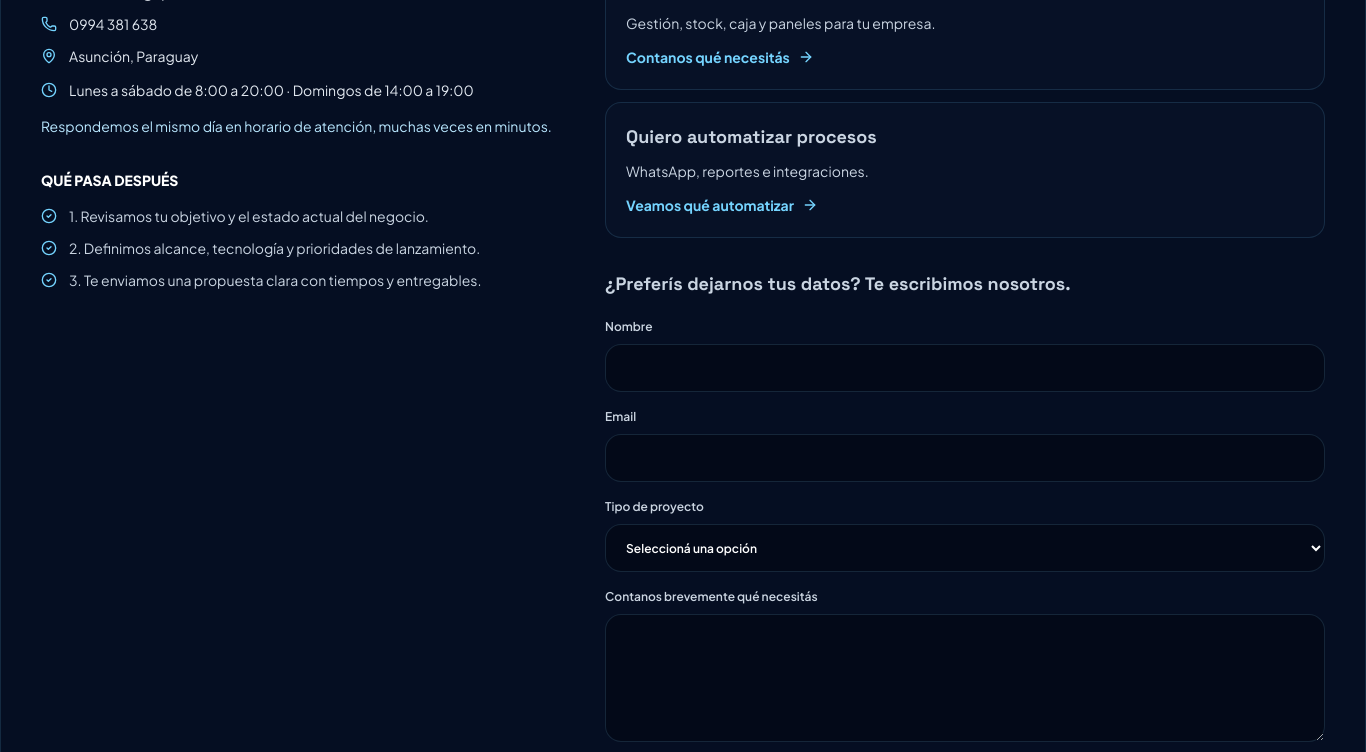
Contact › pide completar la verificación si Turnstile la está mostrando
(page scrolled)
Type "Ada" into the field labelled "Nombre" at (965, 368), box x1=605 y1=344 x2=1325 y2=392
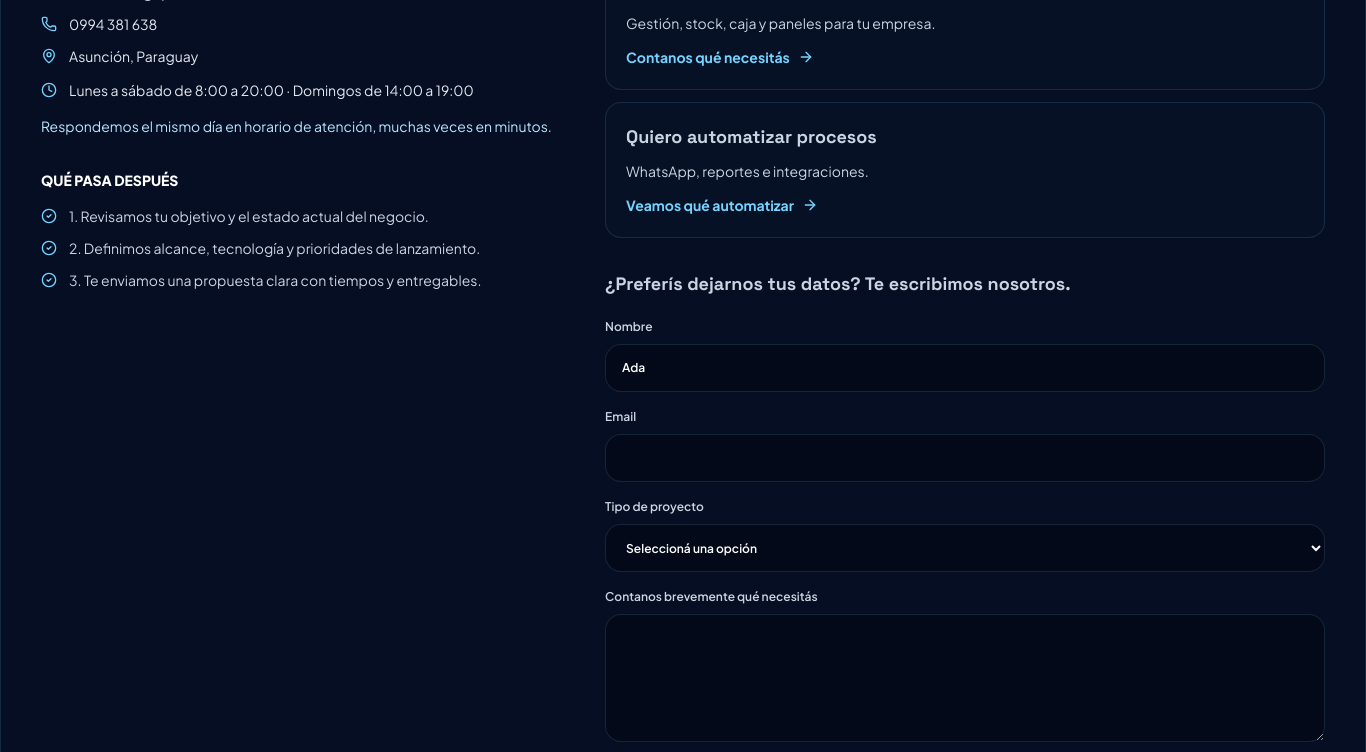
Type "ada@example.com" into the field labelled "Email" at (965, 458), box x1=605 y1=434 x2=1325 y2=482
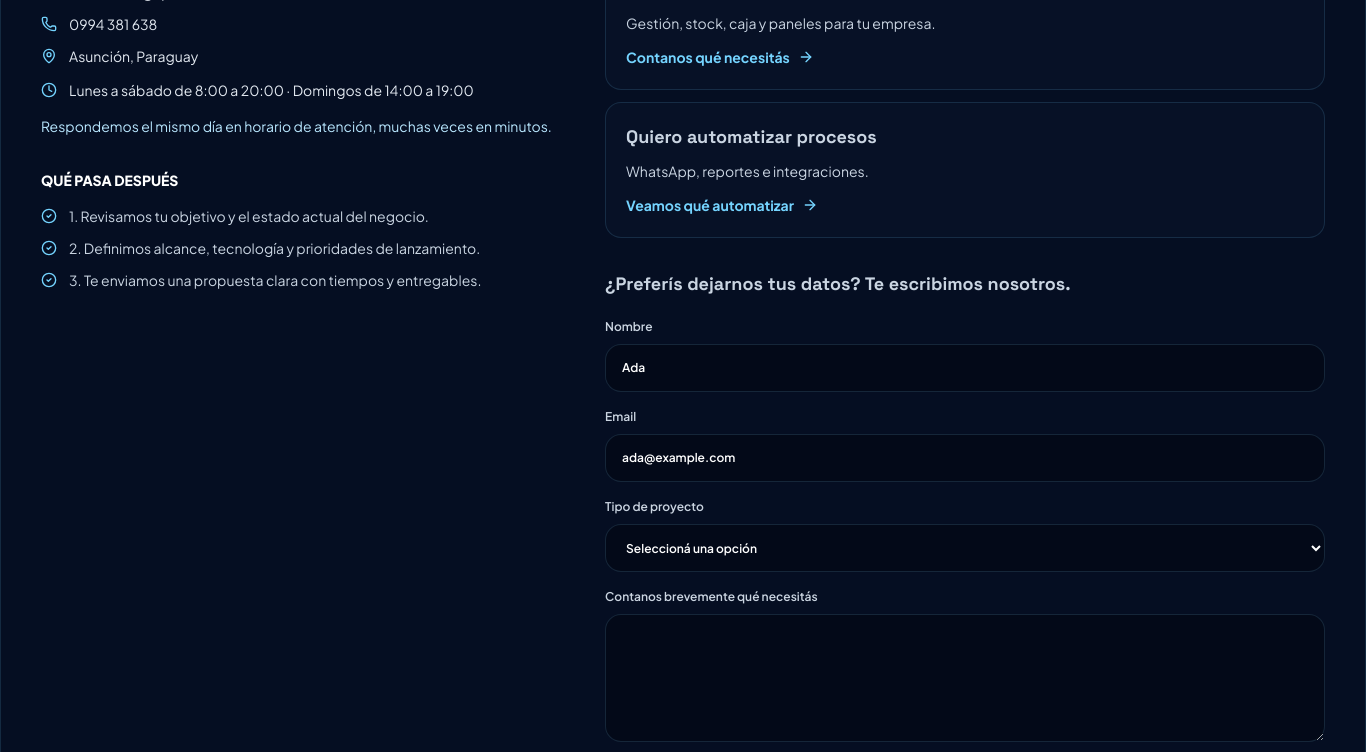
Select "Desarrollo Web" in the dropdown labelled "Tipo de proyecto" at (965, 548), box x1=605 y1=524 x2=1325 y2=572
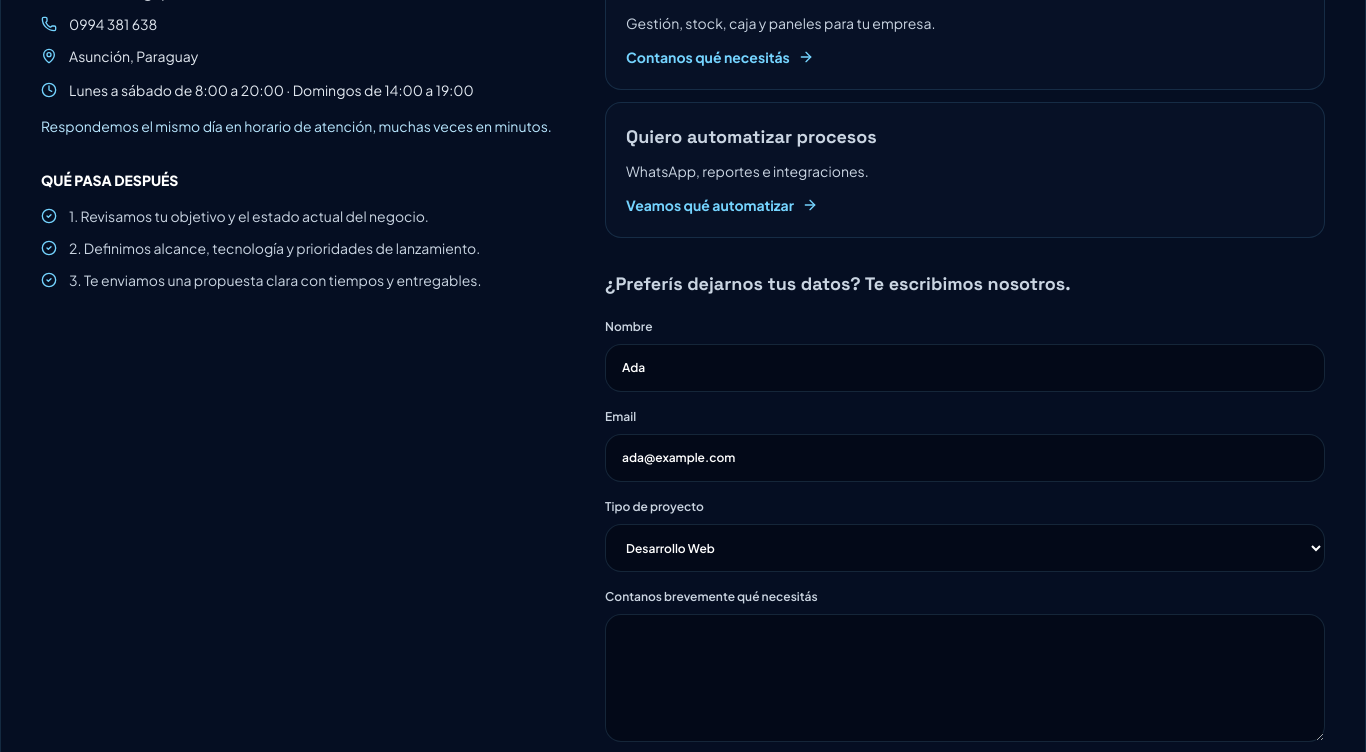
Type "Necesito una nueva landing." into the text box labelled "Contanos brevemente qué necesitás" at (965, 678), box x1=605 y1=614 x2=1325 y2=742
(page scrolled)
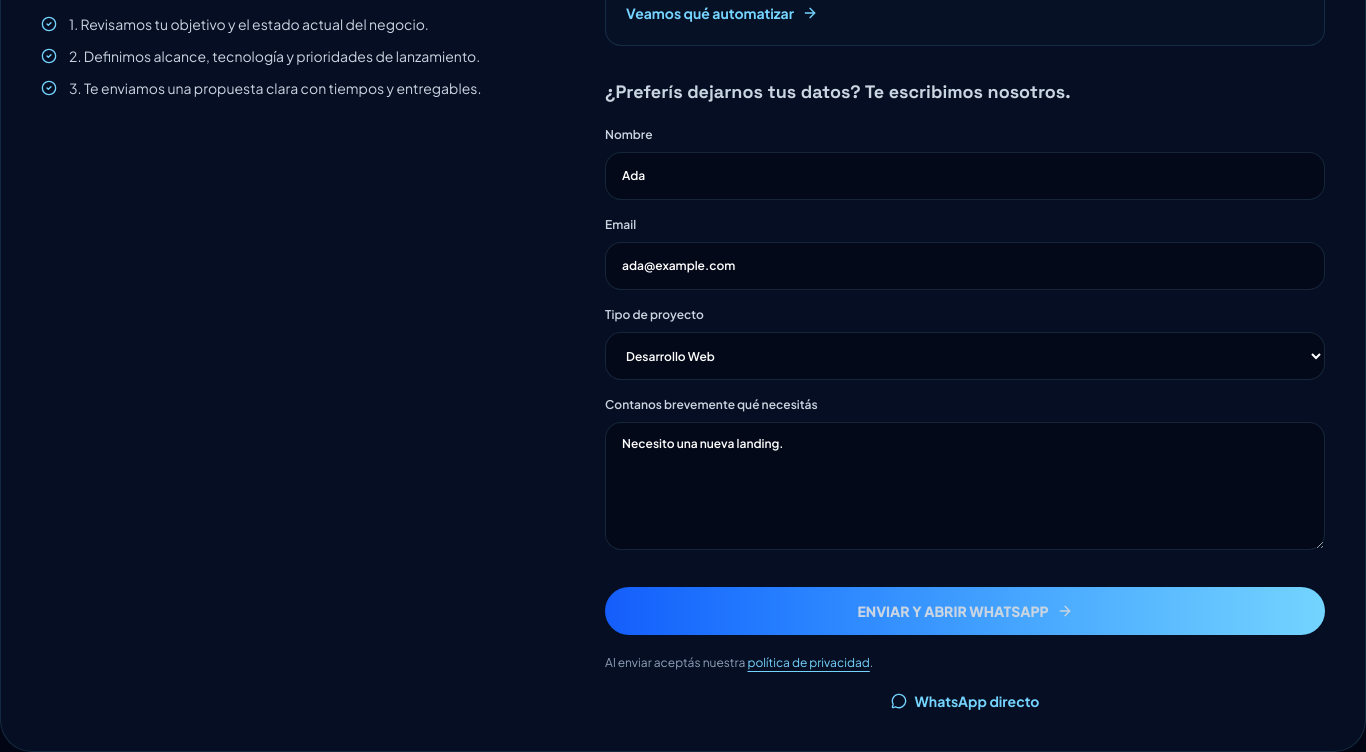
Submit the form named "Enviar y abrir WhatsApp", box x1=605 y1=126 x2=1325 y2=711
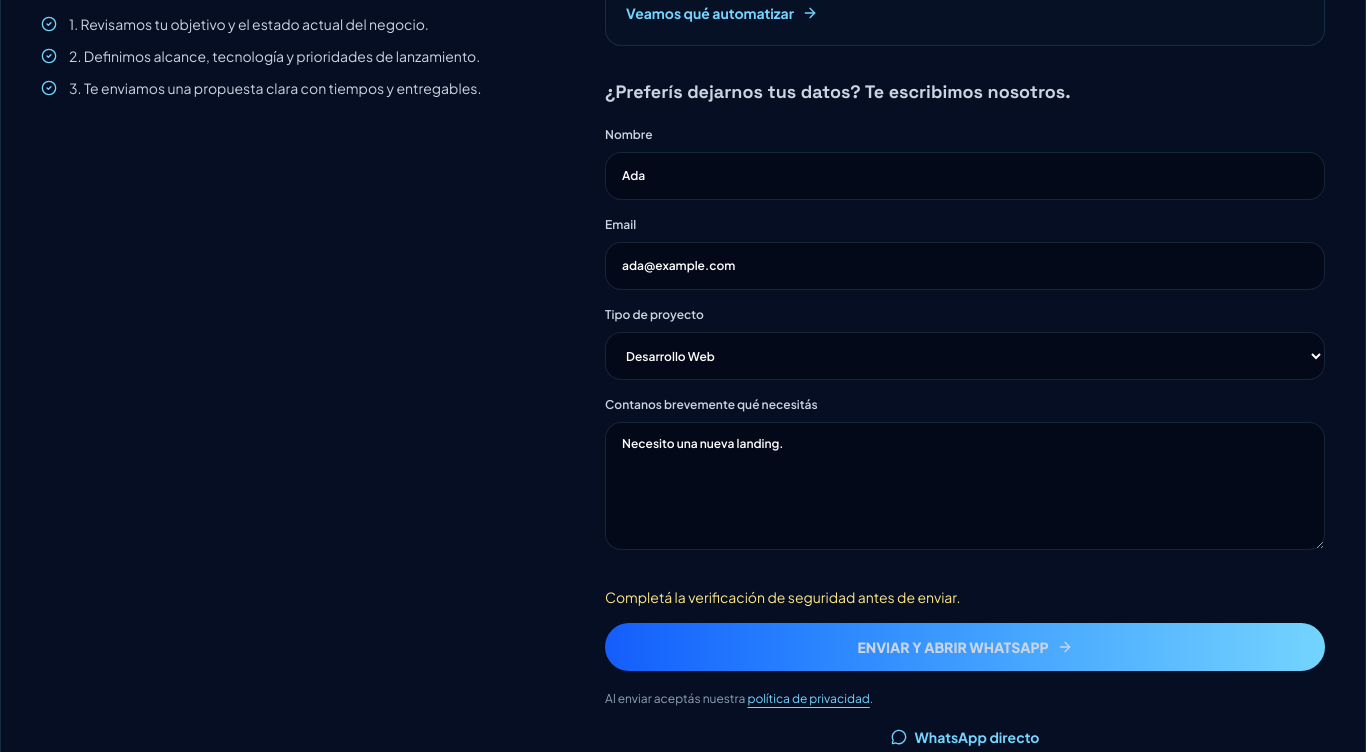
Expected: the text "Completá la verificación de seguridad antes de enviar." is shown, x1=605 y1=588 x2=961 y2=606
